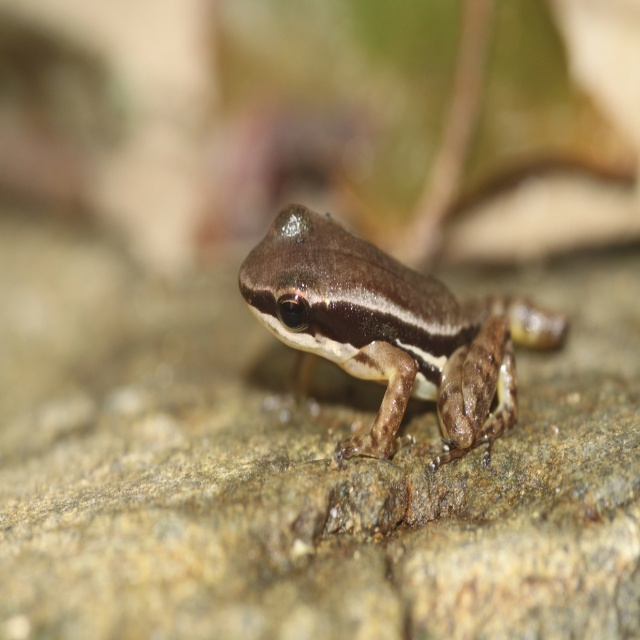Frog: (238, 204, 570, 471)
